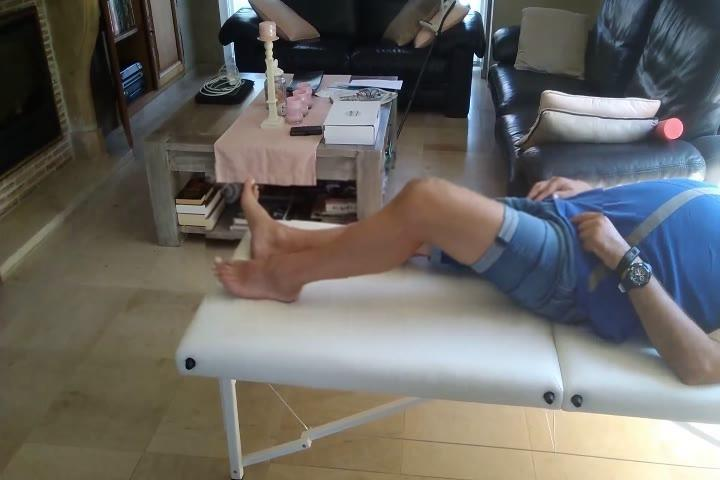lowerbody: (206, 158, 606, 337)
